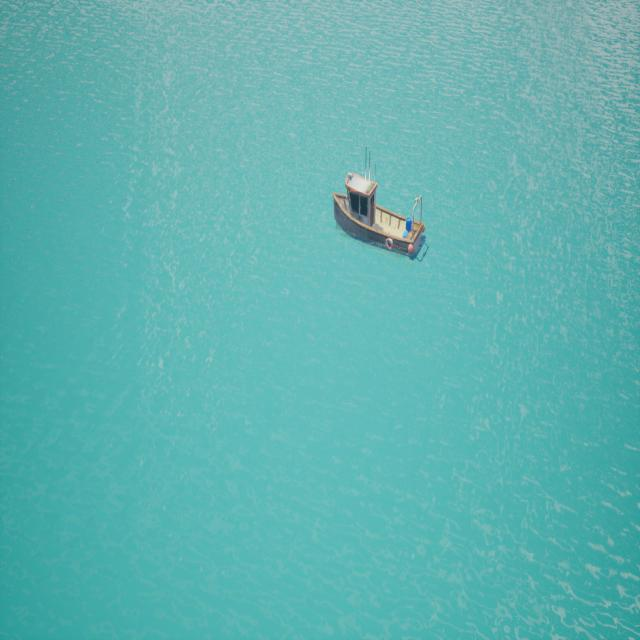ship: (332, 153, 429, 263)
